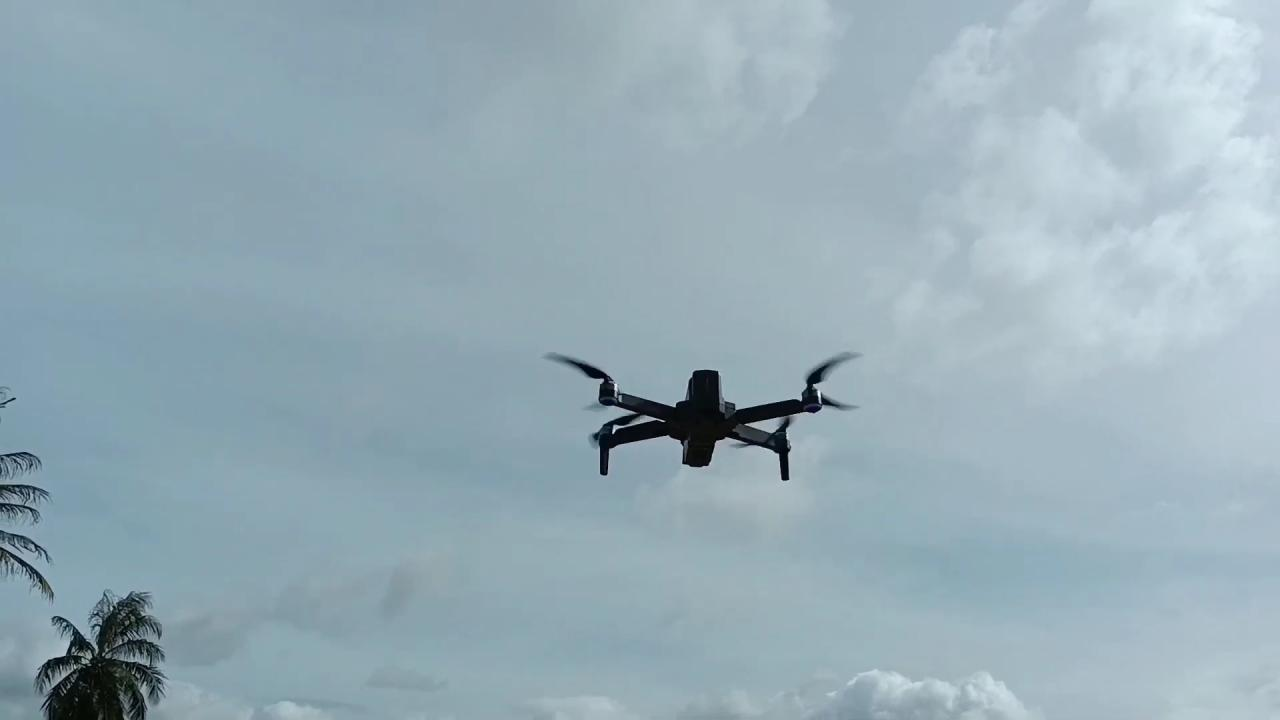Drone: (528, 332, 873, 496)
